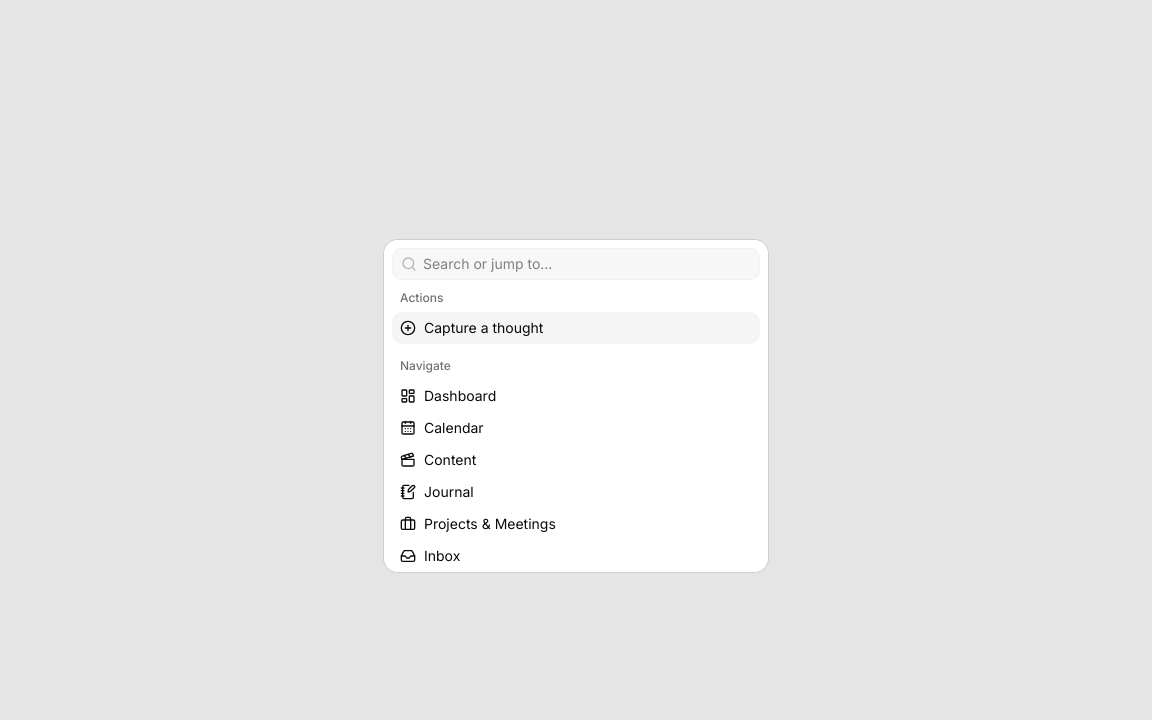
Test: CommandPalette › shows an empty state when nothing matches
This screenshot has width=1152, height=720.
Type "zzz-no-such-item-zzz" into the dropdown at x=588, y=264, box x1=417 y1=254 x2=759 y2=274
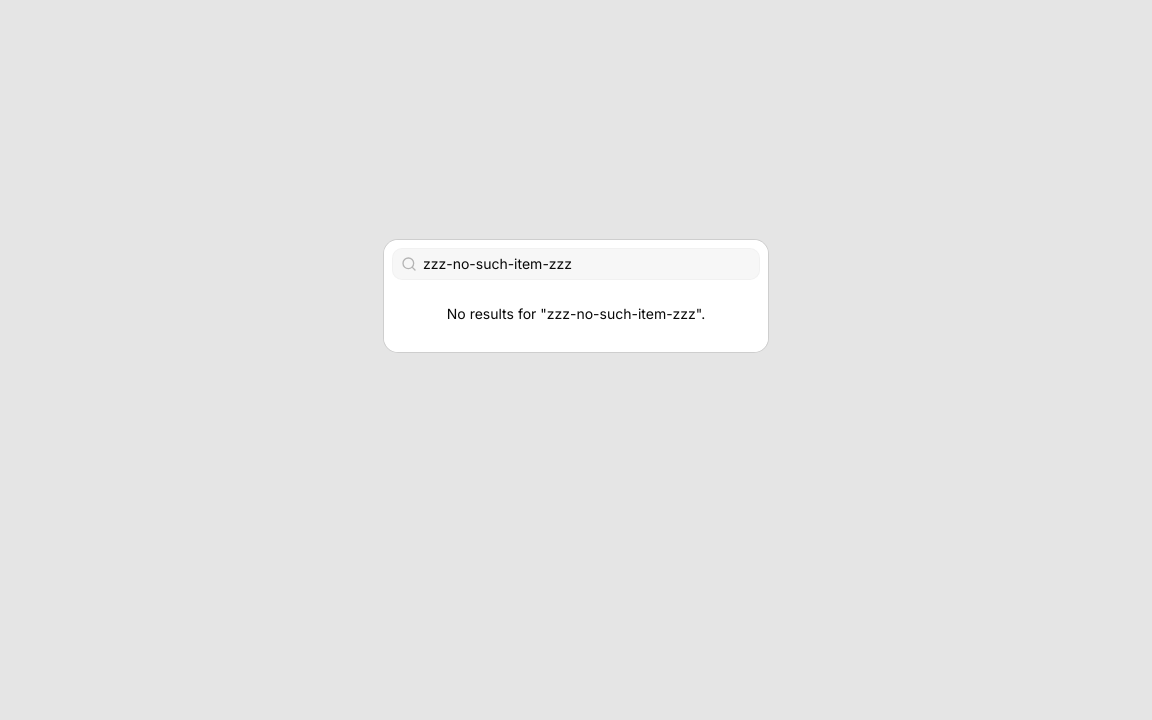
Check: the text "No results for \"zzz-no-such-item-zzz\"." is shown, box x1=447 y1=305 x2=705 y2=322
